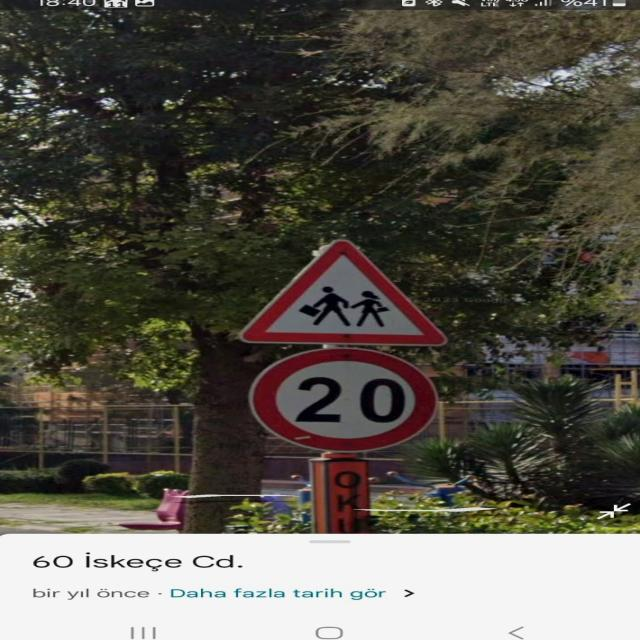okul_gecidi: (234, 233, 452, 345)
